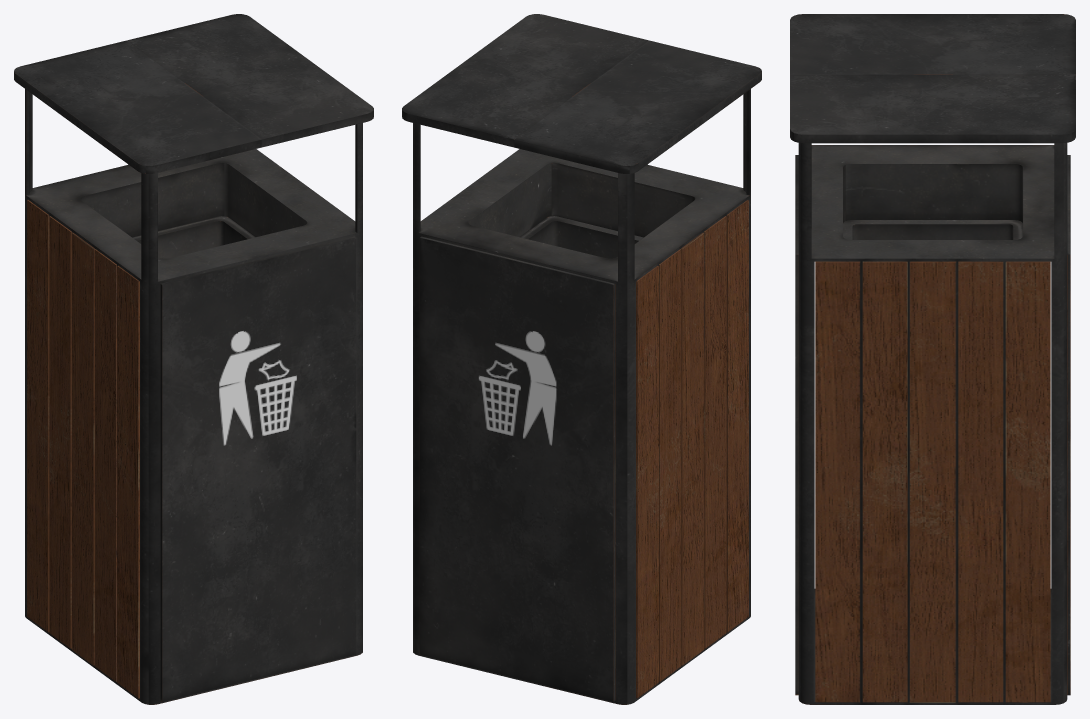
The model's file is Modern Trash Bin Low Poly.glb.
The picture shows the model from 3 angles, left to right: view 1: azimuth 30°, elevation 25°; view 2: azimuth 150°, elevation 25°; view 3: azimuth 270°, elevation 25°; orthographic projection. The views are drawn at different scales.
Visible parts, largest first — view 1: Cube.001; view 2: Cube.001; view 3: Cube.001.
Part boxes in pixels (box(x1,y1,x2,y2)): Cube.001: box(14, 14, 373, 704); Cube.001: box(402, 14, 761, 704); Cube.001: box(790, 14, 1075, 704).
Bounding box in the file's own units: 0.5629 × 1.25 × 0.5629.
Materials: 1 (1 with a texture image).
